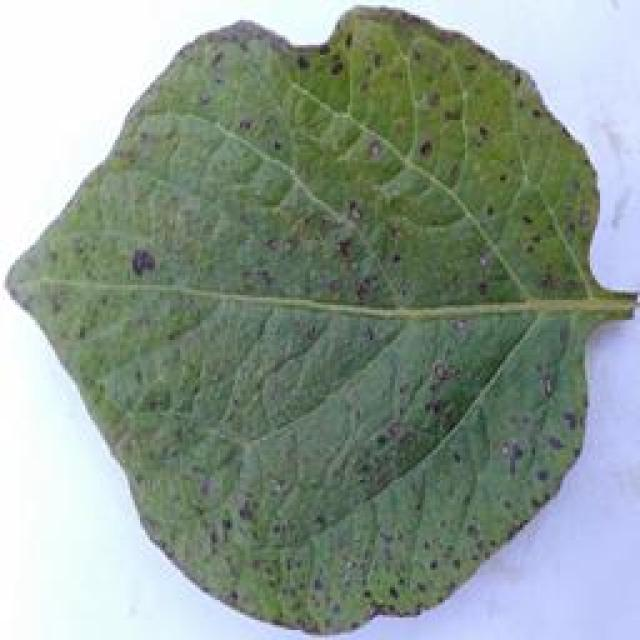Potato_Early_Blight: (6, 6, 632, 632)
